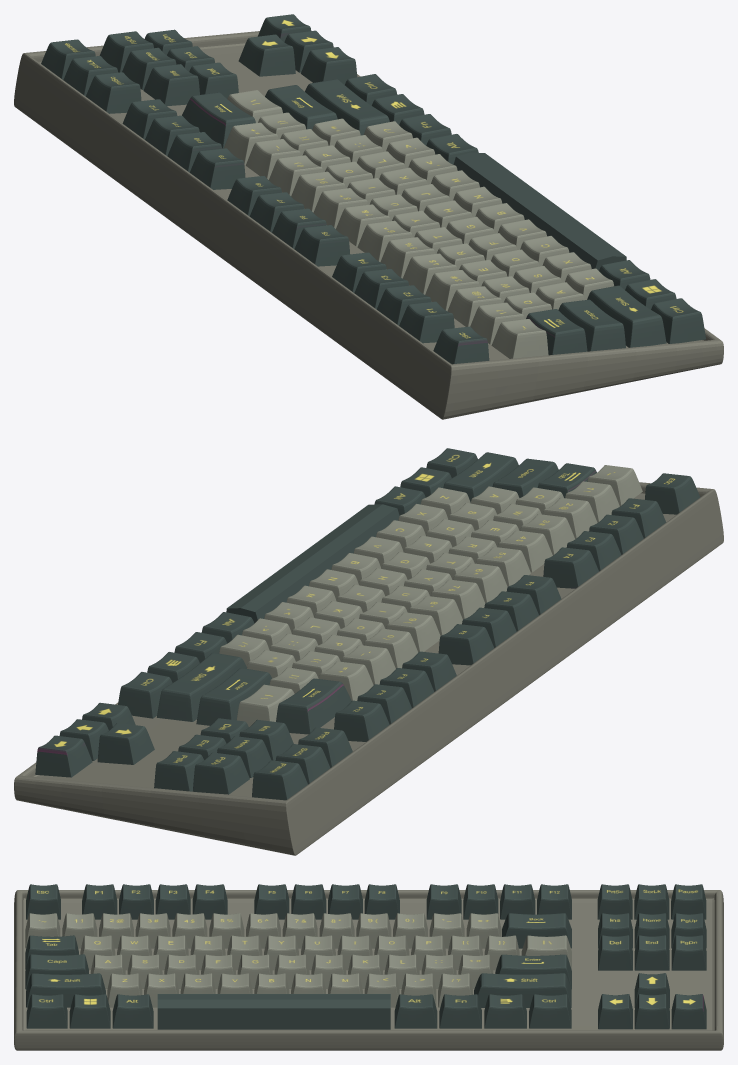
The model's file is tkl_keyboard_yellow_grey_black.glb.
The picture shows the model from 3 angles, top to bottom: view 1: azimuth 30°, elevation 25°; view 2: azimuth 150°, elevation 25°; view 3: azimuth 270°, elevation 25°; orthographic projection. The views are drawn at different scales.
Parts seen in each view (by area): view 1: Keyboard Body; view 2: Keyboard Body; view 3: Keyboard Body.
Boxes of the visible parts, x1=… form: Keyboard Body: x1=14, y1=14, x2=723, y2=419; Keyboard Body: x1=14, y1=448, x2=723, y2=855; Keyboard Body: x1=14, y1=884, x2=723, y2=1050.
Bounding box in the file's own units: 5.55 × 1.5 × 14.78.
Materials: 2 (1 with a texture image).
